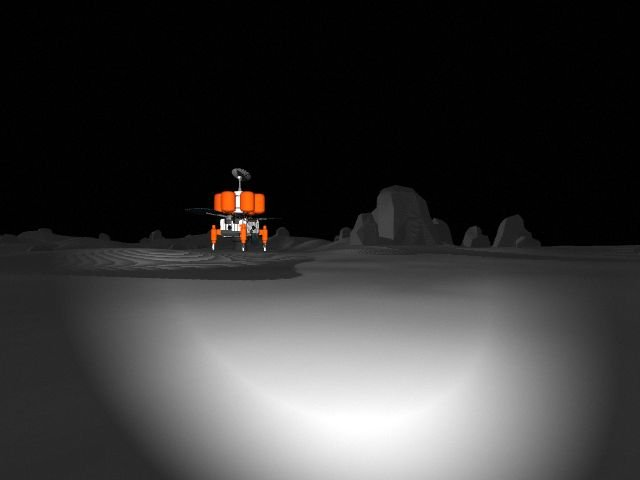homebase: (184, 165, 284, 255)
